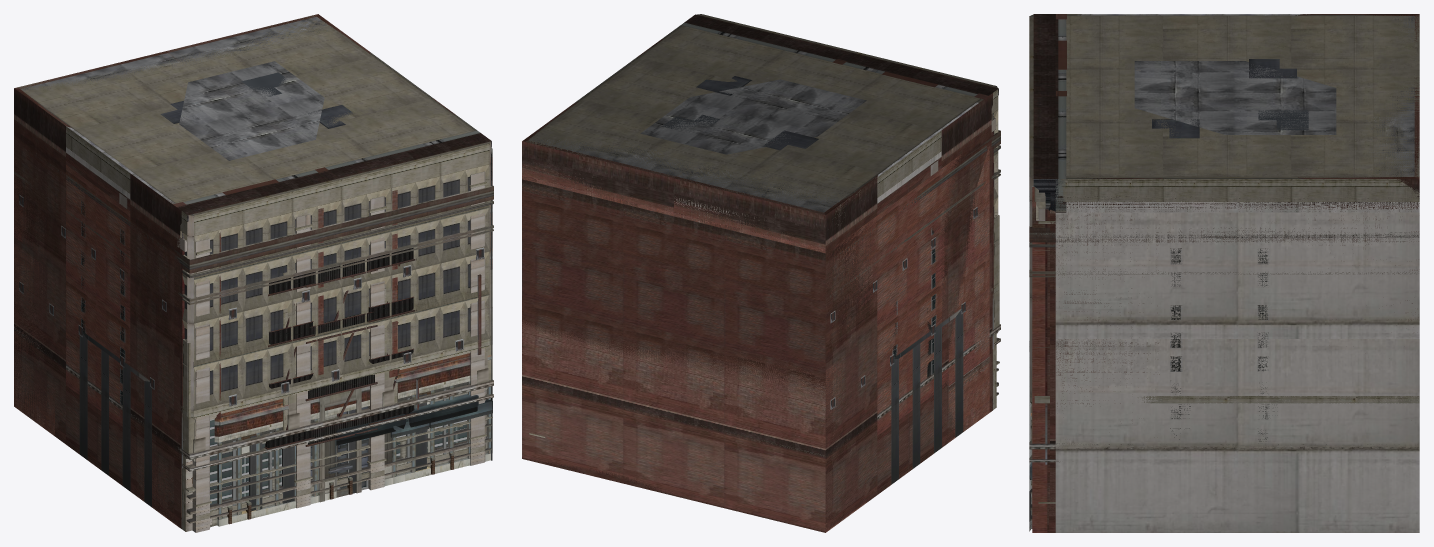
File: haeuser.glb
3 renders of one model, left to right at view 1: azimuth 30°, elevation 25°; view 2: azimuth 150°, elevation 25°; view 3: azimuth 270°, elevation 25°, orthographic. The views are drawn at different scales.
Visible parts, largest first — view 1: Downtown_Brutal_1, Brownstone_Harlem_1_B, Downtown_ModernOffice_4, Brownstone_Lowrise_1, Brownstone_FlatFacade_5, Brownstone_FlatFacade_1, Downtown_ModernOffice_5_B, Downtown_PublicBuilding_1, Brownstone_FlatFacade_3, Downtown_ArtDeco_1, Brownstone_FlatFacade_6, Downtown_ModernOffice_5 (+4 smaller); view 2: Brownstone_Harlem_1_B, Brownstone_FlatFacade_1, Downtown_Brutal_1, Brownstone_FlatFacade_5, Downtown_ModernOffice_4, Brownstone_FlatFacade_6, Brownstone_FlatFacade_3, Downtown_PublicBuilding_1, Downtown_ArtDeco_1, Downtown_ModernOffice_5_B, Downtown_ModernOffice_2, Downtown_Residential_3 (+1 smaller); view 3: Downtown_ModernOffice_2, Downtown_Brutal_1, Downtown_ModernOffice_4, Brownstone_Harlem_1_B, Brownstone_FlatFacade_3, Brownstone_Lowrise_1, Brownstone_FlatFacade_6, Downtown_Residential_3, Downtown_ModernOffice_5_B, Downtown_ArtDeco_1, Downtown_PublicBuilding_1.
Boxes of the visible parts, box(x1,y1,x2,y2) form: Downtown_Brutal_1: box(18, 15, 491, 419); Brownstone_Harlem_1_B: box(14, 14, 455, 526); Downtown_ModernOffice_4: box(119, 61, 486, 532); Brownstone_Lowrise_1: box(19, 148, 492, 526); Brownstone_FlatFacade_5: box(14, 153, 419, 426); Brownstone_FlatFacade_1: box(14, 244, 416, 526); Downtown_ModernOffice_5_B: box(14, 141, 493, 526); Downtown_PublicBuilding_1: box(79, 72, 426, 511); Brownstone_FlatFacade_3: box(95, 134, 491, 448); Downtown_ArtDeco_1: box(81, 200, 492, 531); Brownstone_FlatFacade_6: box(55, 133, 492, 528); Downtown_ModernOffice_5: box(14, 175, 493, 523); Brownstone_Harlem_1_B: box(522, 37, 992, 531); Brownstone_FlatFacade_1: box(522, 146, 989, 532); Downtown_Brutal_1: box(526, 14, 998, 417); Brownstone_FlatFacade_5: box(522, 59, 988, 435); Downtown_ModernOffice_4: box(529, 79, 995, 437); Brownstone_FlatFacade_6: box(522, 21, 993, 502); Brownstone_FlatFacade_3: box(553, 14, 998, 244); Downtown_PublicBuilding_1: box(662, 114, 963, 484); Downtown_ArtDeco_1: box(634, 215, 999, 456); Downtown_ModernOffice_5_B: box(830, 97, 1000, 428); Downtown_ModernOffice_2: box(674, 22, 977, 221); Downtown_Residential_3: box(696, 76, 1000, 160); Downtown_ModernOffice_2: box(1055, 19, 1419, 532); Downtown_Brutal_1: box(1029, 14, 1419, 403); Downtown_ModernOffice_4: box(1031, 61, 1399, 528); Brownstone_Harlem_1_B: box(1048, 14, 1419, 531); Brownstone_FlatFacade_3: box(1033, 14, 1417, 211); Brownstone_Lowrise_1: box(1030, 186, 1047, 532); Brownstone_FlatFacade_6: box(1029, 14, 1419, 532); Downtown_Residential_3: box(1029, 59, 1418, 242); Downtown_ModernOffice_5_B: box(1029, 69, 1419, 510); Downtown_ArtDeco_1: box(1030, 248, 1269, 485); Downtown_PublicBuilding_1: box(1258, 110, 1308, 130).
Size of the model in its own units: 1 by 1 by 1.
21 materials, 21 textured.
